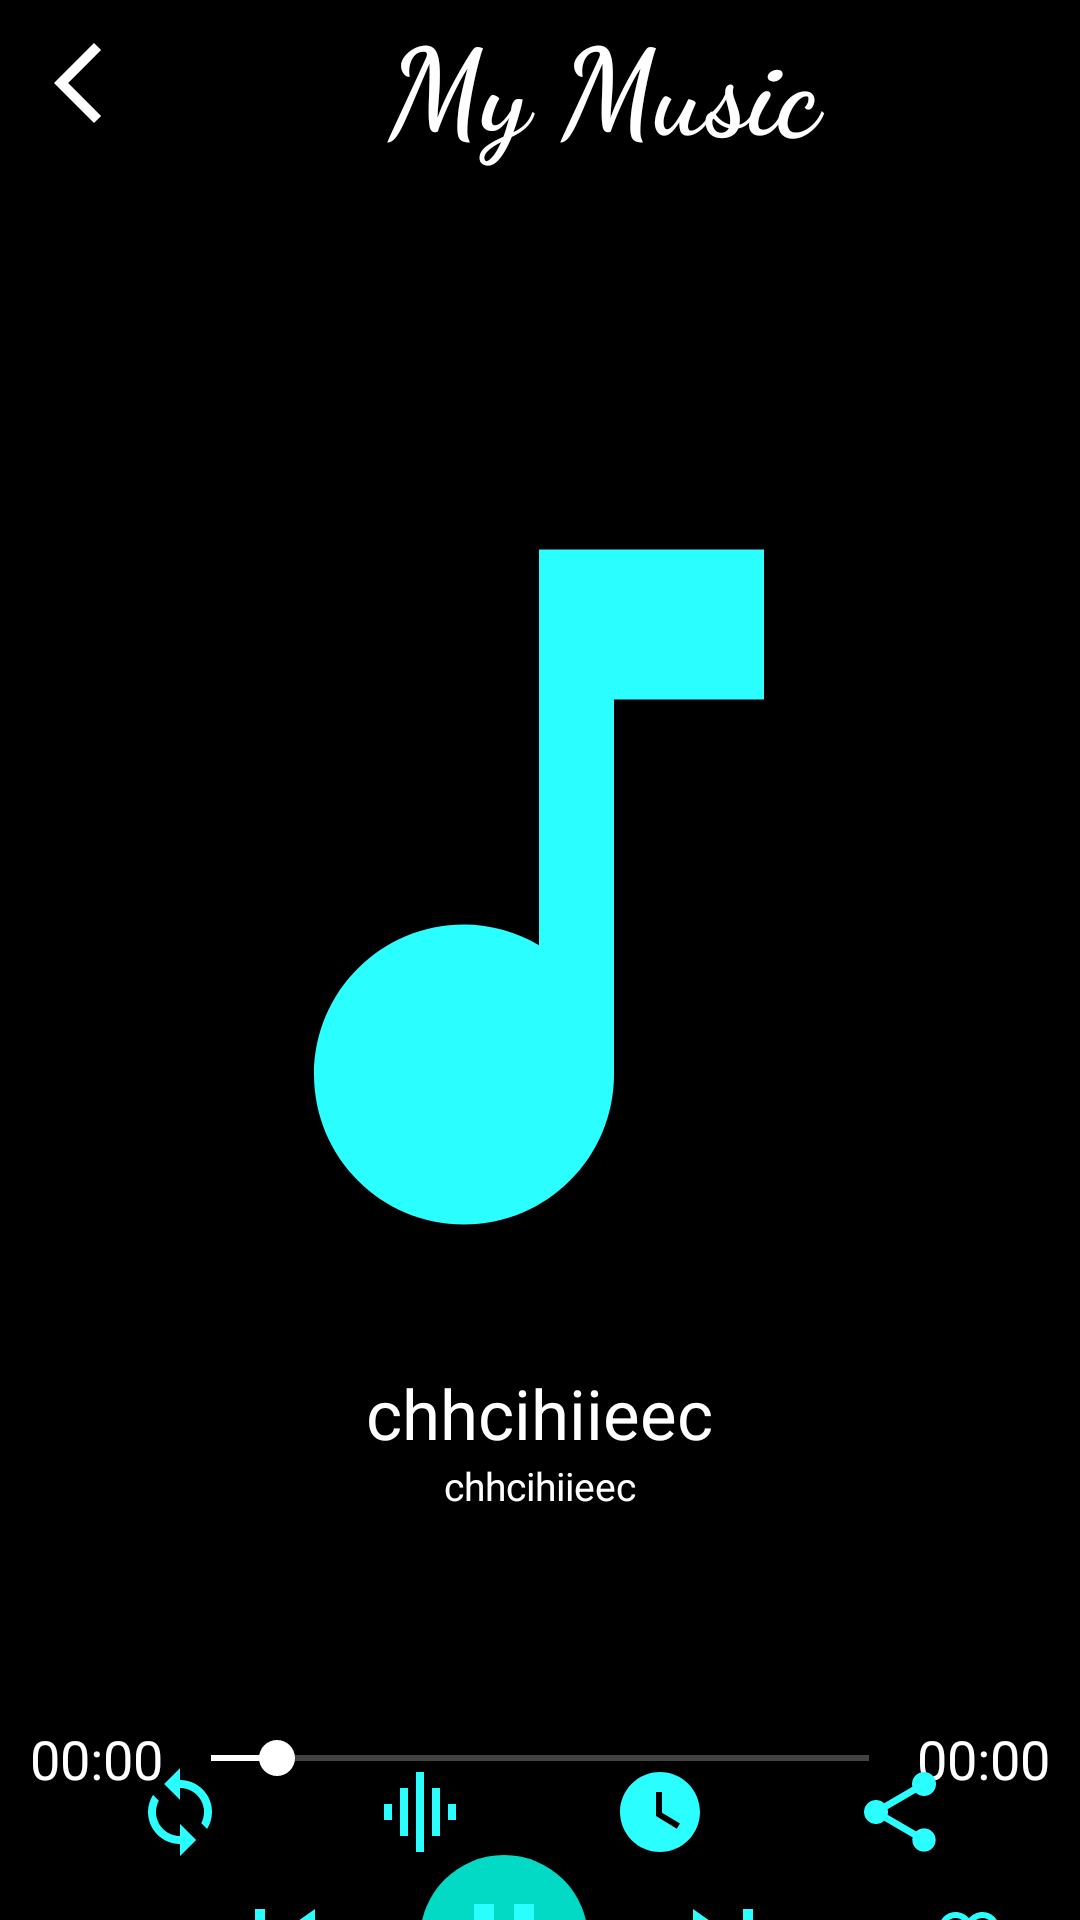

Named icons in this screenshot (1080x1920) and their bounding boxes, bbox=(x1, y1, x2, y2):
backwh: bbox=(54, 43, 101, 123)
equilzer: bbox=(384, 1772, 456, 1852)
stopwtch: bbox=(620, 1772, 700, 1852)
